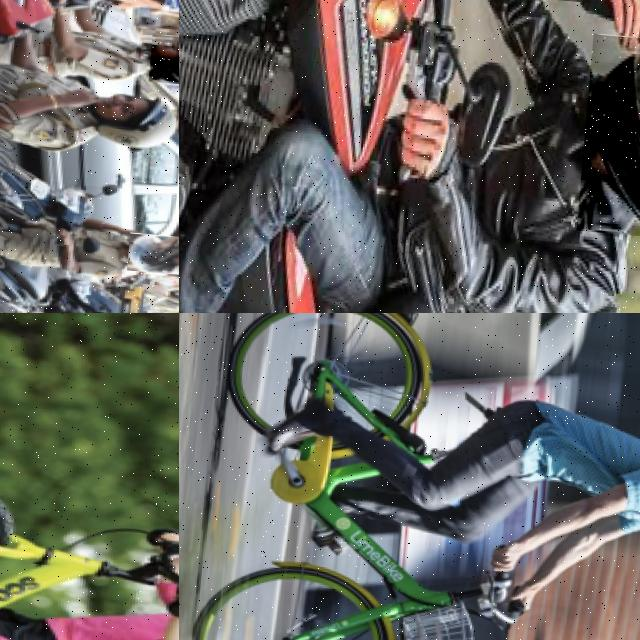helmet: (574, 33, 640, 245), (125, 231, 179, 274), (147, 33, 179, 86)
